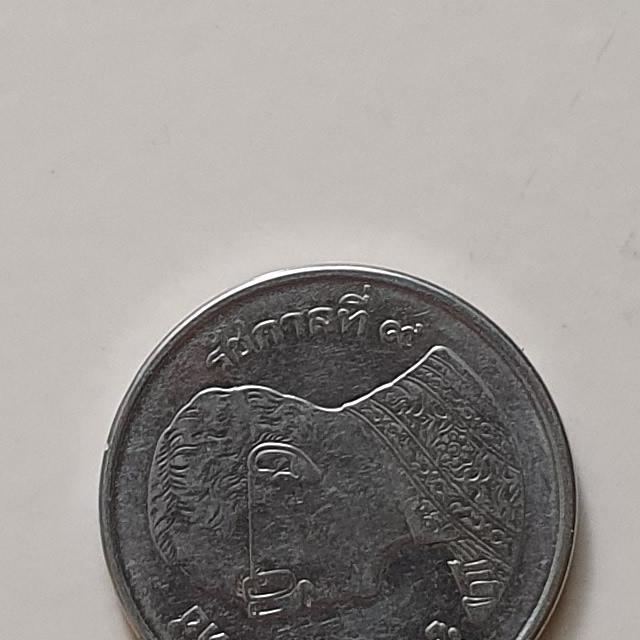1 Bath: (83, 254, 590, 640)
